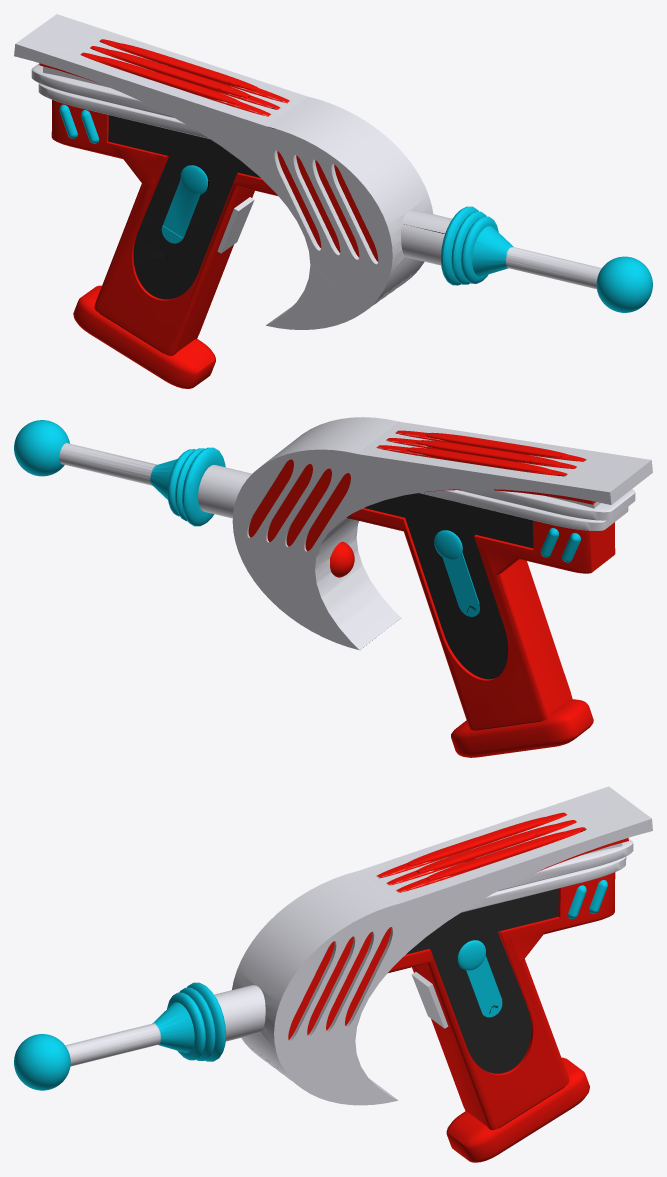
File: low-poly_Arma_do_Alien.glb
3 views of the same model, one above another, from view 1: azimuth 30°, elevation 25°; view 2: azimuth 210°, elevation 25°; view 3: azimuth 270°, elevation 25° (orthographic).
Visible parts, largest first — view 1: obj_0.005; view 2: obj_0.005; view 3: obj_0.005.
Boxes of the visible parts, x1,y1,x2,y2 form: obj_0.005: (14, 14, 652, 388); obj_0.005: (14, 417, 652, 757); obj_0.005: (14, 786, 652, 1162).
Size of the model in its own units: 0.1264 by 0.1075 by 0.1973.
1 material, 1 textured.
